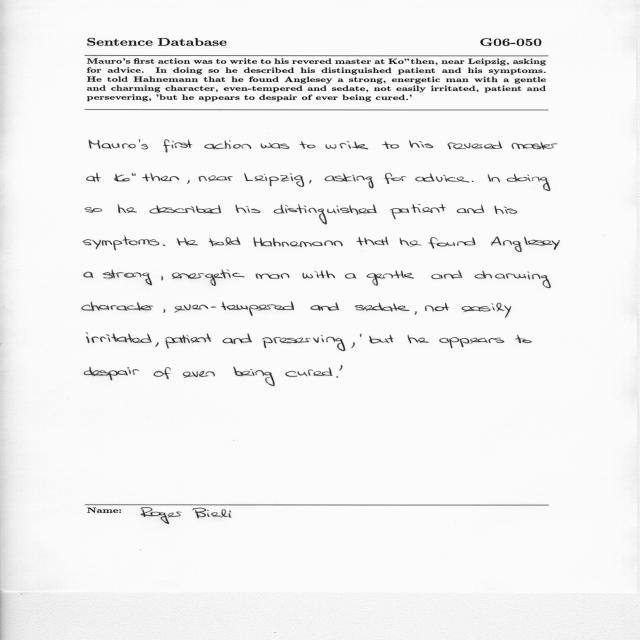word: (273, 205, 377, 225), (174, 301, 294, 316), (262, 335, 345, 351), (474, 271, 551, 288), (172, 269, 244, 286), (491, 236, 560, 252), (83, 237, 159, 251), (253, 237, 343, 247), (244, 173, 304, 187), (390, 204, 446, 219), (233, 367, 275, 386), (366, 270, 414, 286), (462, 303, 512, 318), (507, 174, 551, 191), (166, 333, 212, 349), (325, 174, 374, 189), (103, 270, 152, 285), (439, 337, 505, 348), (84, 367, 139, 380), (82, 301, 153, 311), (86, 333, 152, 343), (89, 139, 148, 150), (114, 173, 179, 182), (150, 205, 222, 213), (428, 237, 476, 248), (416, 174, 470, 183), (355, 303, 409, 312), (285, 367, 333, 377), (448, 141, 502, 149), (205, 141, 252, 150), (163, 140, 192, 153), (512, 142, 558, 150), (325, 141, 368, 149), (223, 333, 252, 344), (208, 237, 241, 246), (356, 237, 389, 246), (302, 270, 335, 279), (431, 270, 462, 279), (311, 302, 340, 311), (457, 205, 485, 214), (384, 173, 406, 184), (236, 204, 261, 213), (369, 335, 394, 344), (183, 371, 215, 378), (425, 303, 449, 312), (153, 367, 171, 379), (495, 205, 518, 214), (199, 176, 233, 182), (256, 273, 290, 279), (261, 142, 290, 149), (400, 238, 422, 247), (409, 140, 433, 148), (117, 205, 137, 214), (177, 238, 198, 246), (408, 335, 429, 343), (382, 141, 399, 149), (515, 335, 532, 343), (86, 173, 101, 182), (299, 141, 315, 149), (488, 174, 500, 183), (85, 207, 102, 213), (84, 271, 94, 278), (345, 273, 356, 279), (351, 342, 355, 348), (339, 365, 343, 371), (155, 342, 159, 347), (187, 180, 190, 184), (309, 180, 312, 184), (162, 276, 164, 280), (163, 309, 165, 313), (415, 311, 417, 315), (163, 244, 165, 246), (360, 334, 361, 338), (336, 376, 338, 378), (472, 181, 474, 182)
